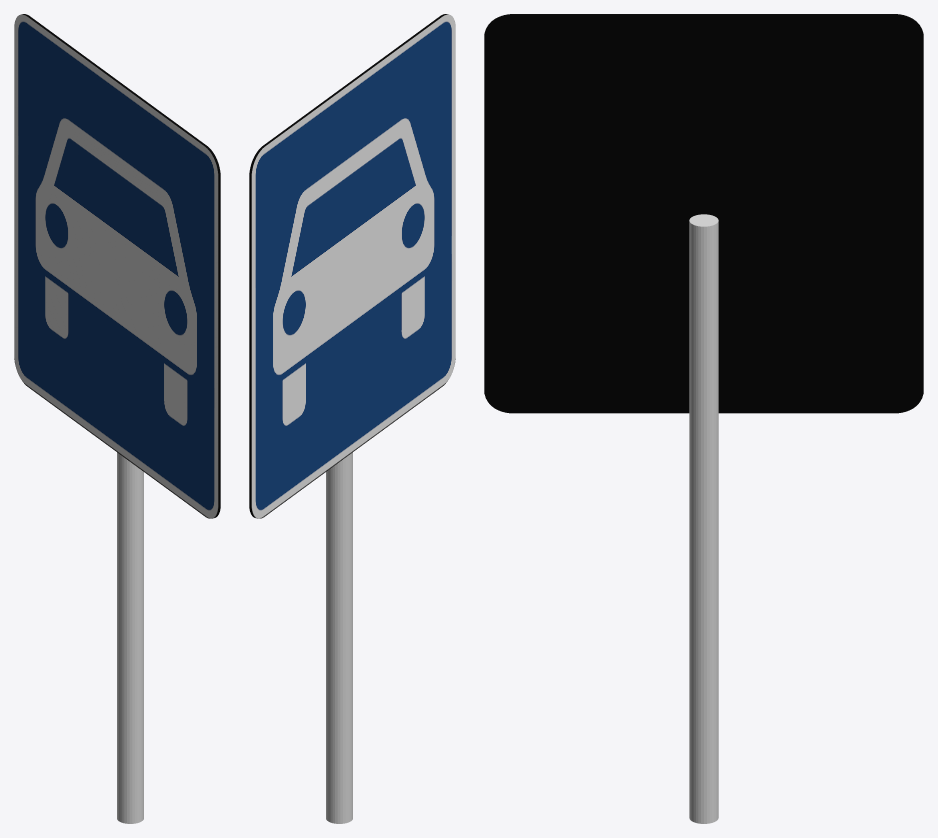
Rendered from expressway_start_sign.dae.
3 views of the same model, side by side, from view 1: azimuth 30°, elevation 25°; view 2: azimuth 150°, elevation 25°; view 3: azimuth 270°, elevation 25° (orthographic). The views are drawn at different scales.
Visible parts, largest first — view 1: path3678, Cylinder; view 2: path3678, Cylinder; view 3: path3678, Cylinder.
Part boxes in pixels (left/top/right/bottom): path3678: left=14, top=14, right=220, bottom=518; Cylinder: left=117, top=452, right=143, bottom=823; path3678: left=249, top=14, right=455, bottom=518; Cylinder: left=326, top=452, right=352, bottom=823; path3678: left=484, top=14, right=923, bottom=413; Cylinder: left=689, top=214, right=718, bottom=823.
Size of the model in its own units: 0.011 by 0.15 by 0.3.
3 materials, 2 textured.
